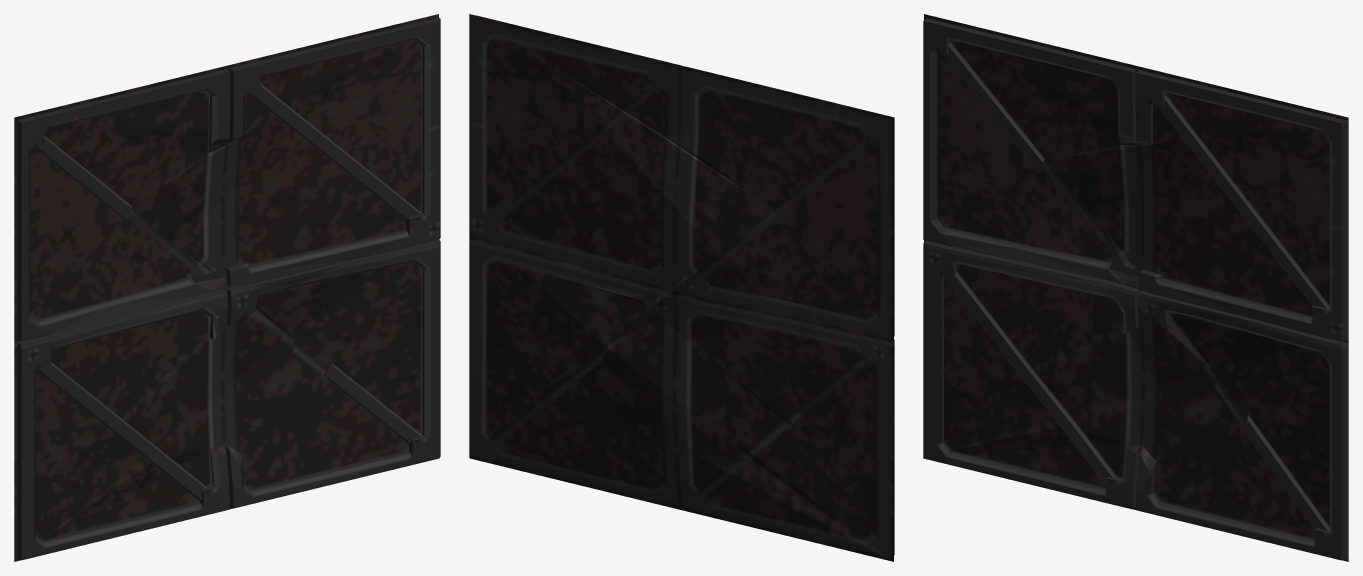
The model's file is maint3_1d.fbx.
3 renders of one model, left to right at view 1: azimuth 30°, elevation 25°; view 2: azimuth 150°, elevation 25°; view 3: azimuth 330°, elevation 25°, orthographic.
Parts seen in each view (by area): view 1: maint3_1d_mesh; view 2: maint3_1d_mesh; view 3: maint3_1d_mesh.
Boxes of the visible parts, box(x1,y1,x2,y2) form: maint3_1d_mesh: box(14, 14, 440, 561); maint3_1d_mesh: box(469, 14, 894, 561); maint3_1d_mesh: box(923, 14, 1348, 561).
Size of the model in its own units: 256 by 256 by 10.98.
